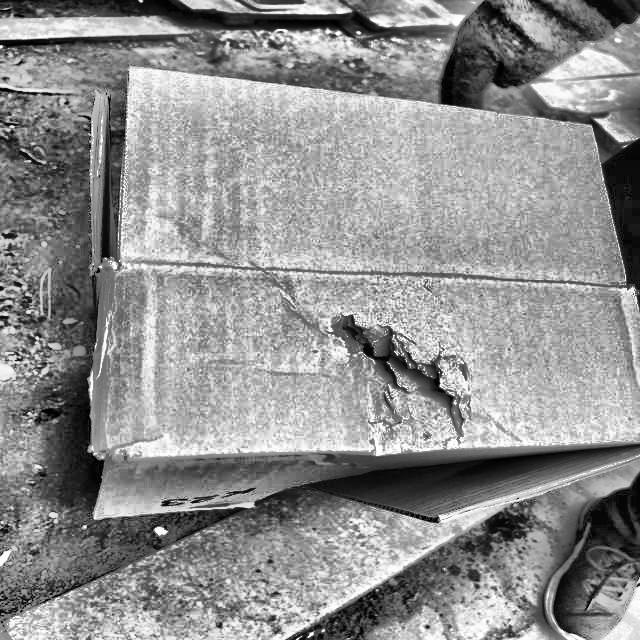box: (73, 67, 639, 538)
hole: (336, 313, 473, 431)
